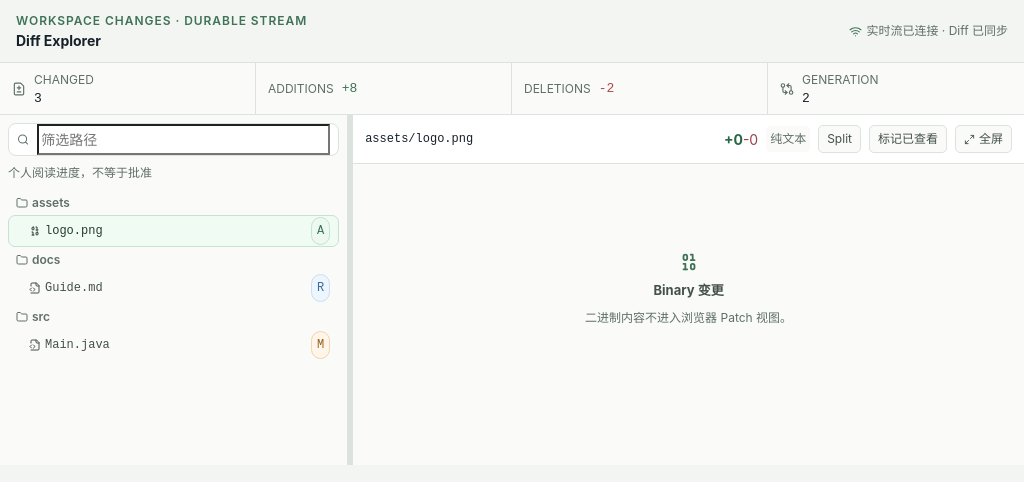
Scenario: CodingDiffExplorer › switches renamed and binary files without presenting binary content
Click the button with class "diff-tree__file" showing "Guide.md R" at (74, 288), box [8,272,339,304]
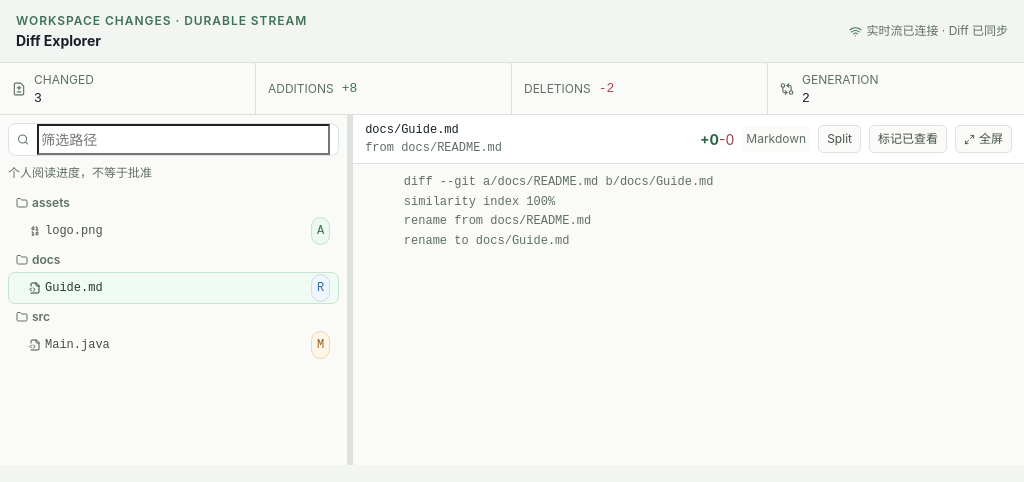
Check: the header that starts with "docs/Guide.md" shows "from docs/README.md", box [365,141,502,155]
Check: the element named "docs/Guide.md Patch" shows "rename to docs/Guide.md", box [404,234,570,248]
Click the button with class "diff-tree__file" showing "logo.png A" at (74, 231), box [8,215,339,247]
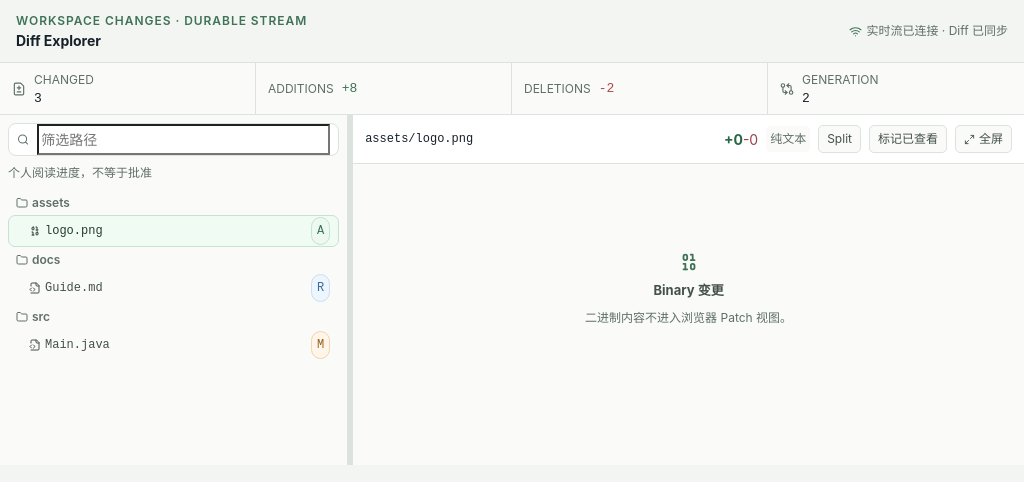
Check: the text "Binary 变更" is shown, box [654,281,724,301]
